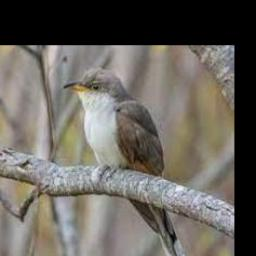Cuckoo: (62, 67, 193, 256)
